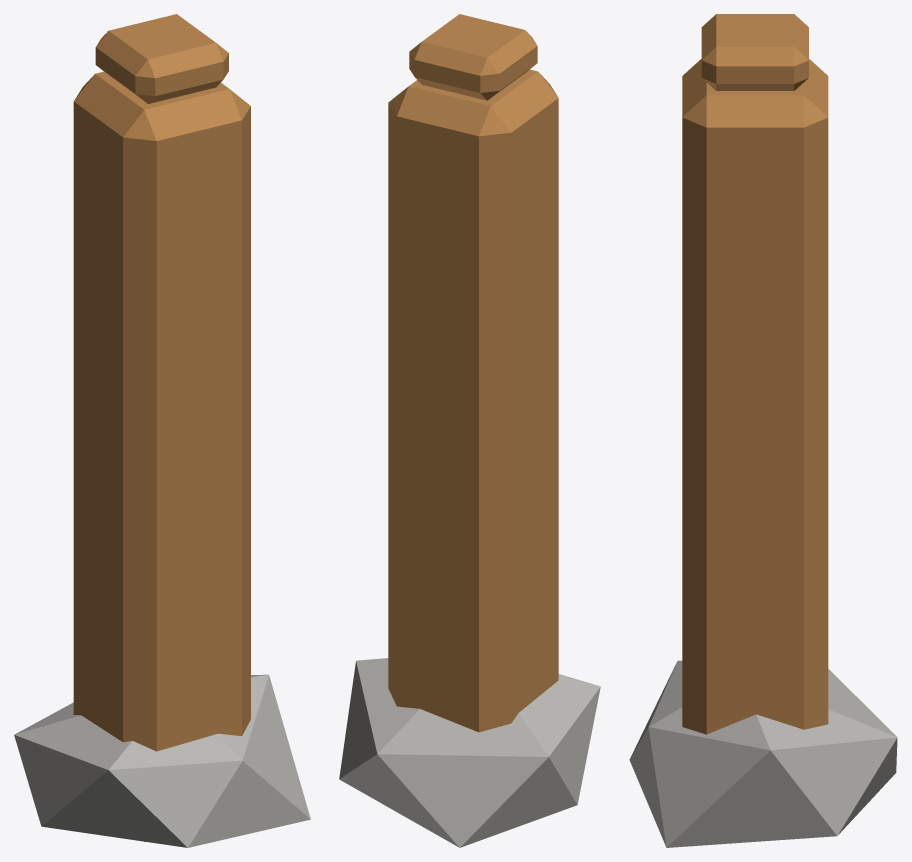
File: rail_end_post.glb
The picture shows the model from 3 angles, left to right: view 1: azimuth 30°, elevation 25°; view 2: azimuth 150°, elevation 25°; view 3: azimuth 270°, elevation 25°; orthographic projection. The views are drawn at different scales.
Visible parts, largest first — view 1: rail_end_post; view 2: rail_end_post; view 3: rail_end_post.
Boxes of the visible parts, left/top/right/bottom form: rail_end_post: left=14, top=14, right=310, bottom=847; rail_end_post: left=339, top=14, right=600, bottom=847; rail_end_post: left=629, top=14, right=897, bottom=847.
Bounding box in the file's own units: 0.2684 × 0.9031 × 0.2749.
